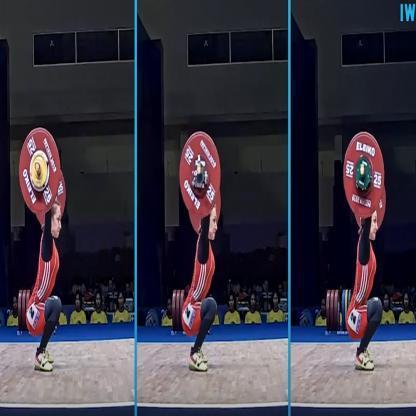barbell: (17, 127, 67, 219), (342, 131, 388, 230), (178, 130, 223, 218)
